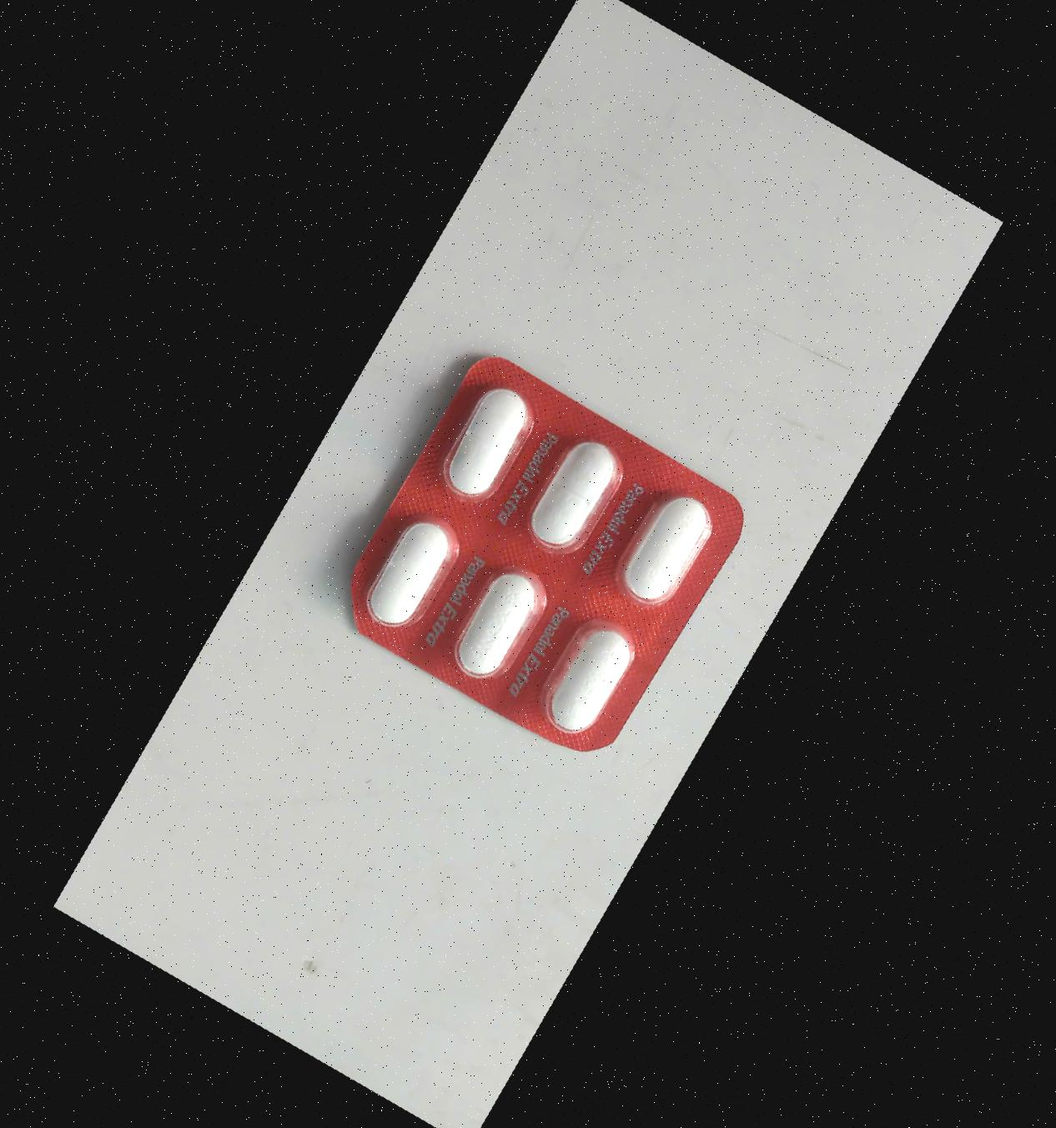Full: (420, 369, 552, 519), (344, 497, 475, 648), (599, 475, 730, 626), (509, 421, 640, 572), (525, 604, 656, 754), (433, 548, 564, 698)
